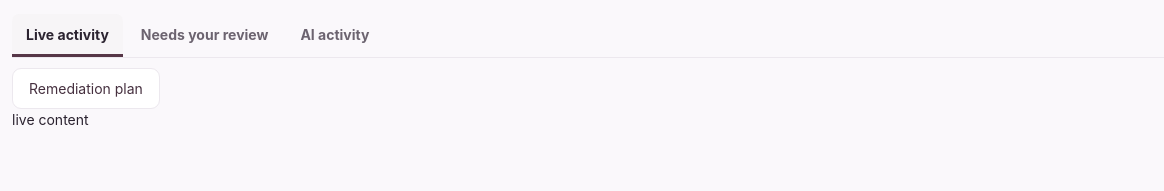
Scenario: keeps review available but optional for automatic publication
Click the tab with id "rem-mode-review".
click(205, 36)  # box [127, 14, 282, 57]
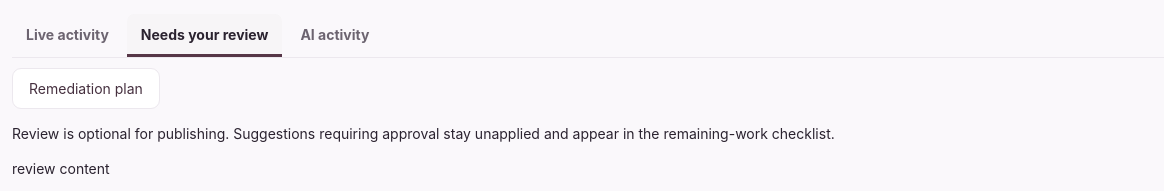
Now the panel with id "rem-panel-review" shows "Suggestions requiring approval stay unapplied", box [12, 125, 835, 142]
